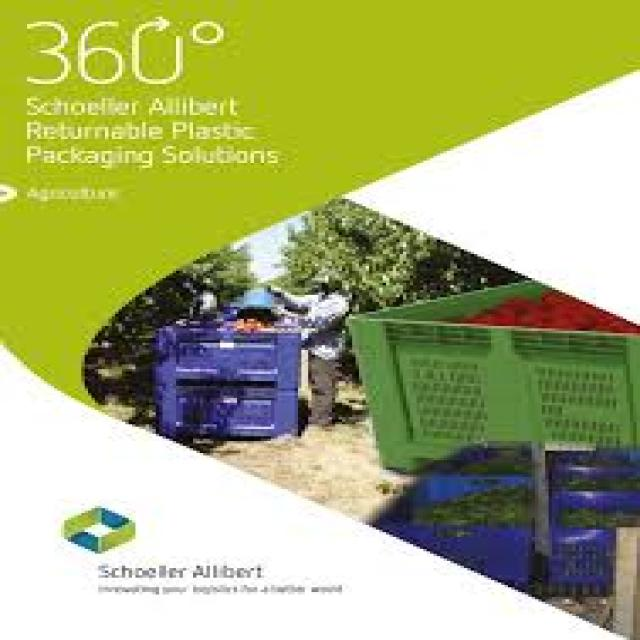basket: (374, 448, 532, 588), (159, 328, 305, 442), (405, 360, 484, 442)
